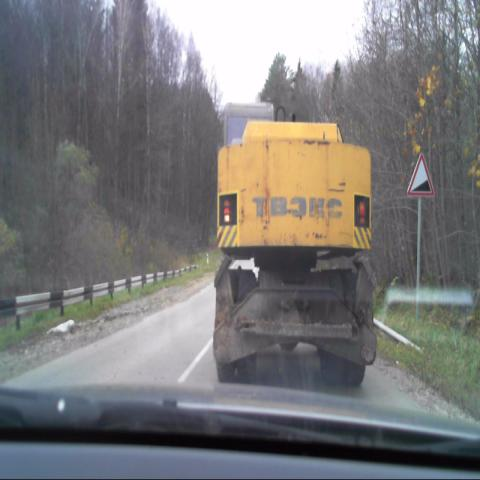1_14: (404, 152, 435, 199)
